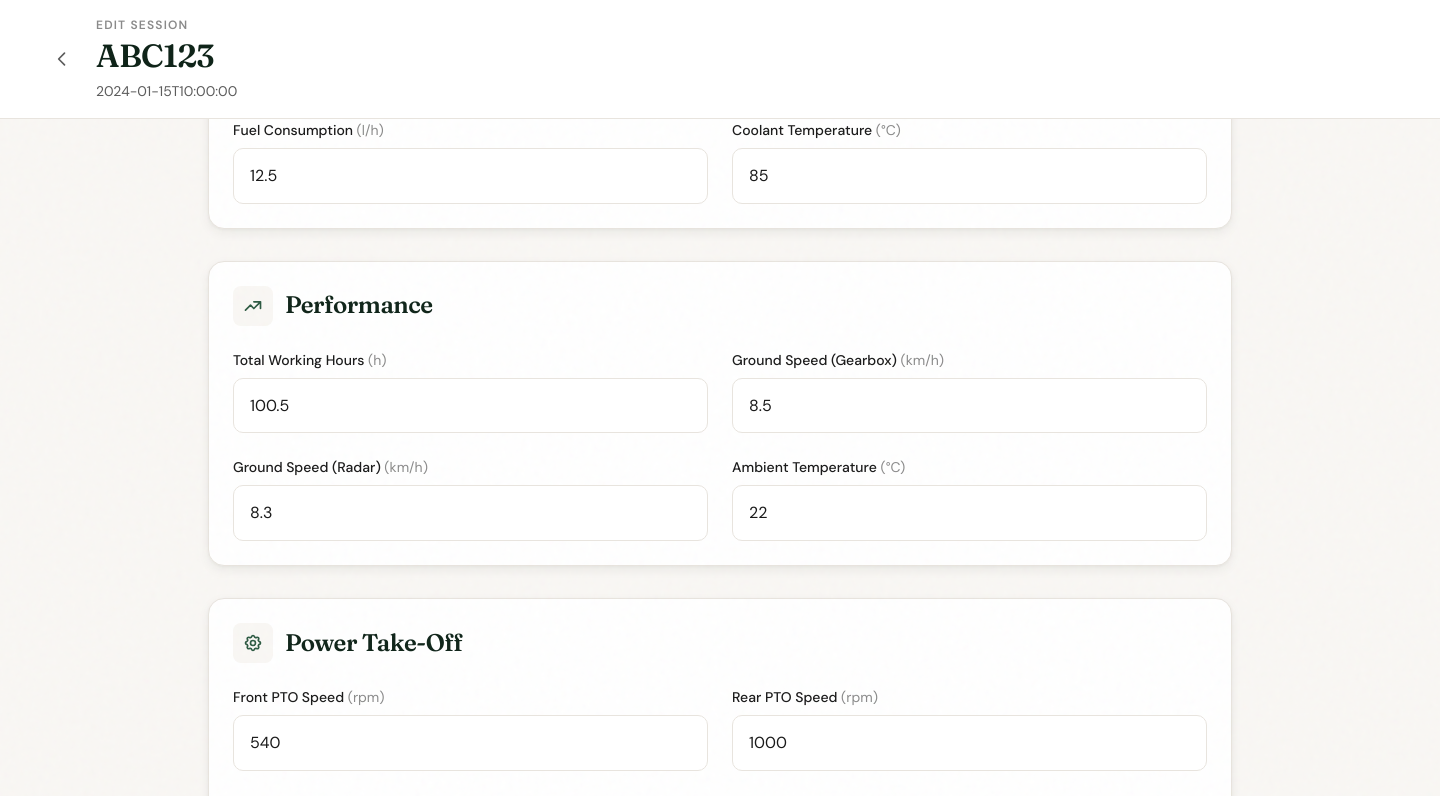
Test: EditSession › validates total working hours cannot be negative
(page scrolled)
Replace the text in the number field with id "total_working_hours_counter" with "-10" at (470, 406), box [233,378,708,433]
(page scrolled)
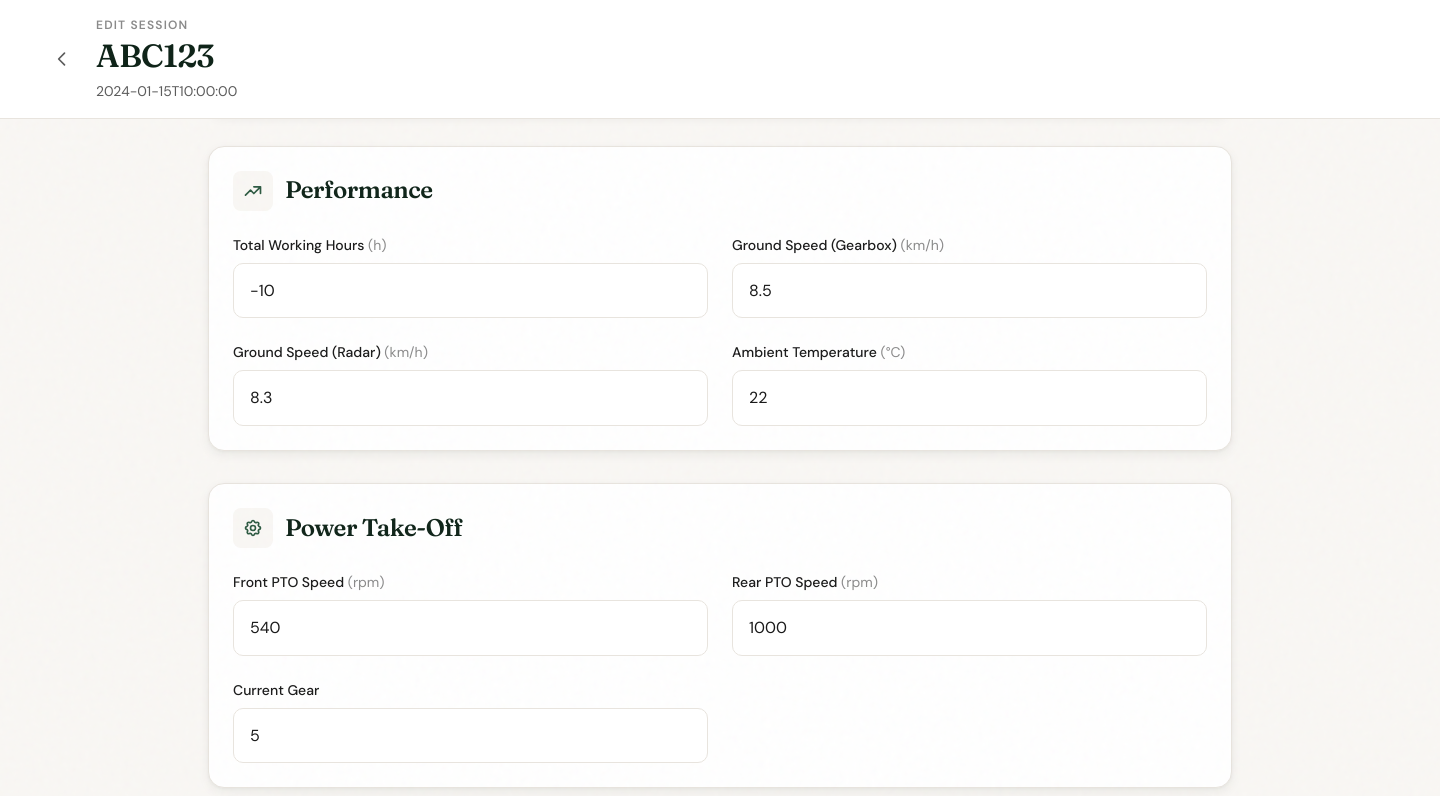
Submit the form
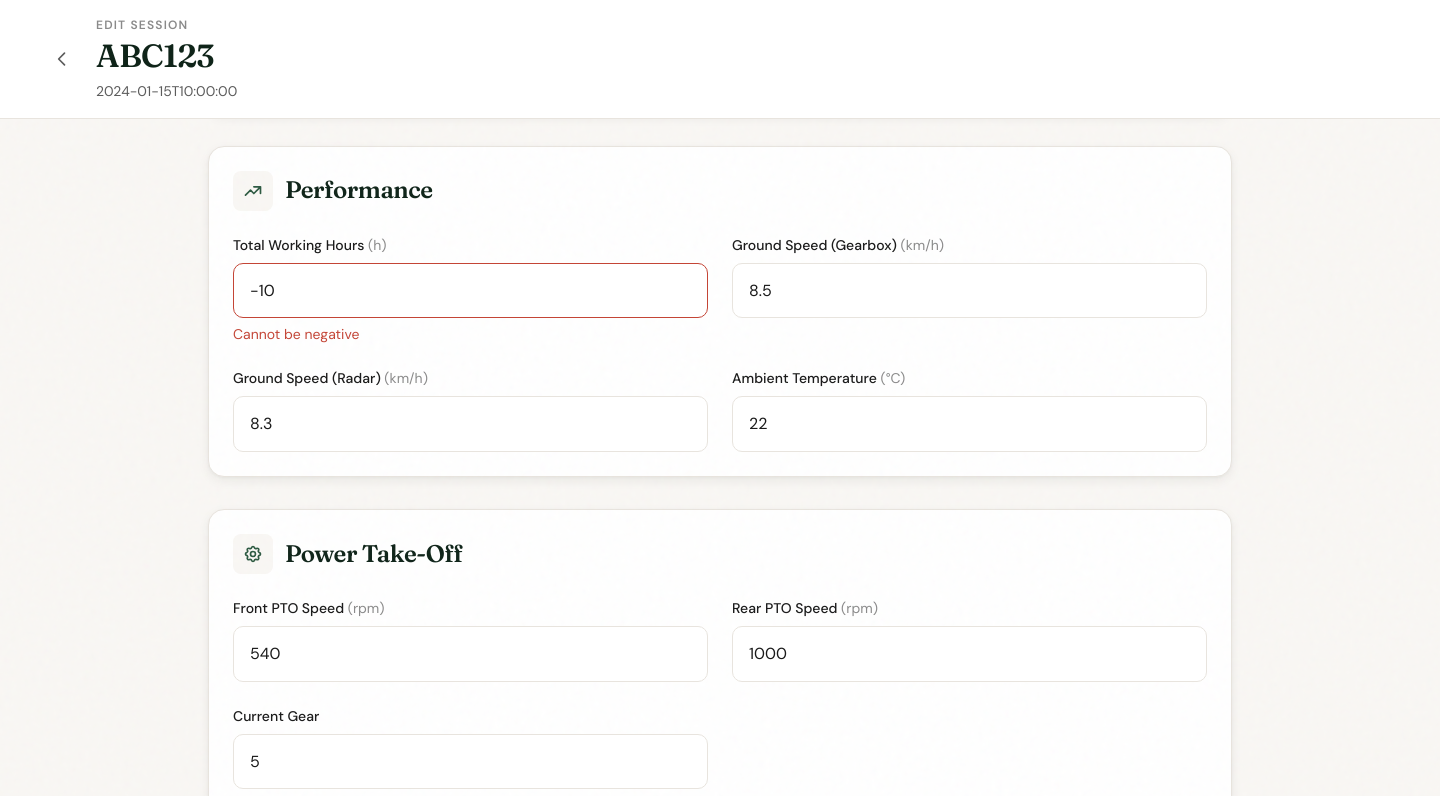
Expected: the text "Cannot be negative" is shown, [233,325,359,343]
